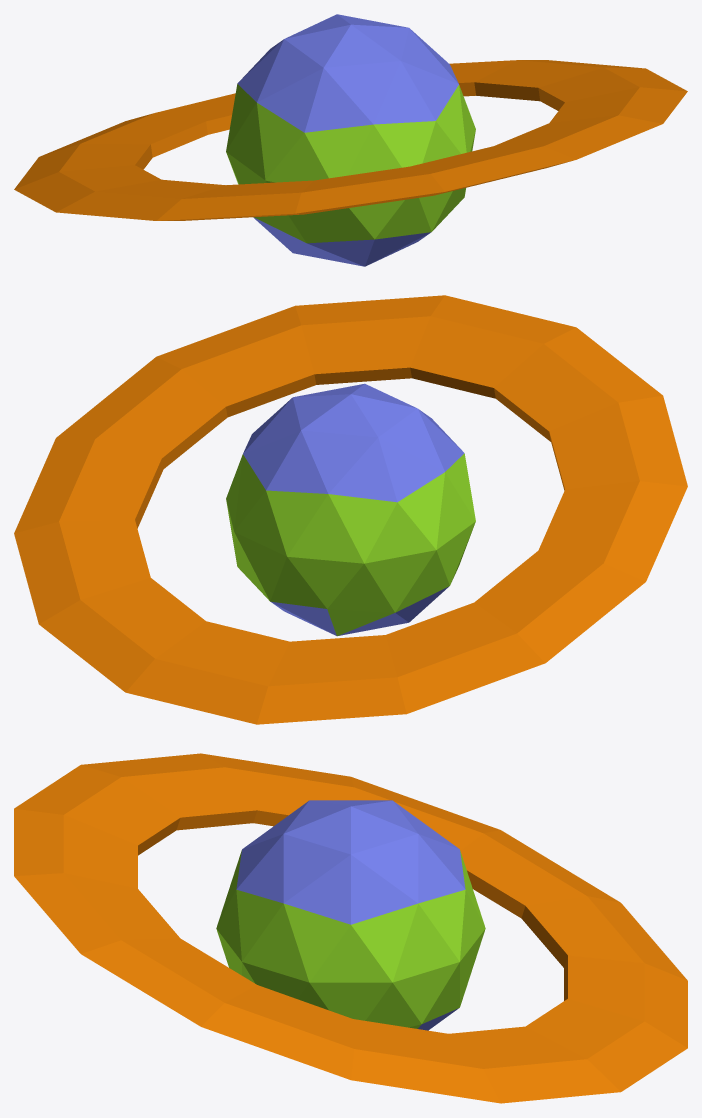
The picture shows the model from 3 angles, top to bottom: view 1: azimuth 30°, elevation 25°; view 2: azimuth 150°, elevation 25°; view 3: azimuth 270°, elevation 25°; orthographic projection. The views are drawn at different scales.
Parts seen in each view (by area): view 1: Satellite, Surface; view 2: Satellite, Surface; view 3: Satellite, Surface.
Part boxes in pixels (x1,y1,x2,y2): Satellite: [14, 60, 687, 220]; Surface: [226, 14, 475, 266]; Satellite: [14, 295, 687, 724]; Surface: [226, 383, 475, 636]; Satellite: [14, 753, 687, 1103]; Surface: [216, 800, 485, 1030].
Bounding box in the file's own units: 585 × 219 × 549.
